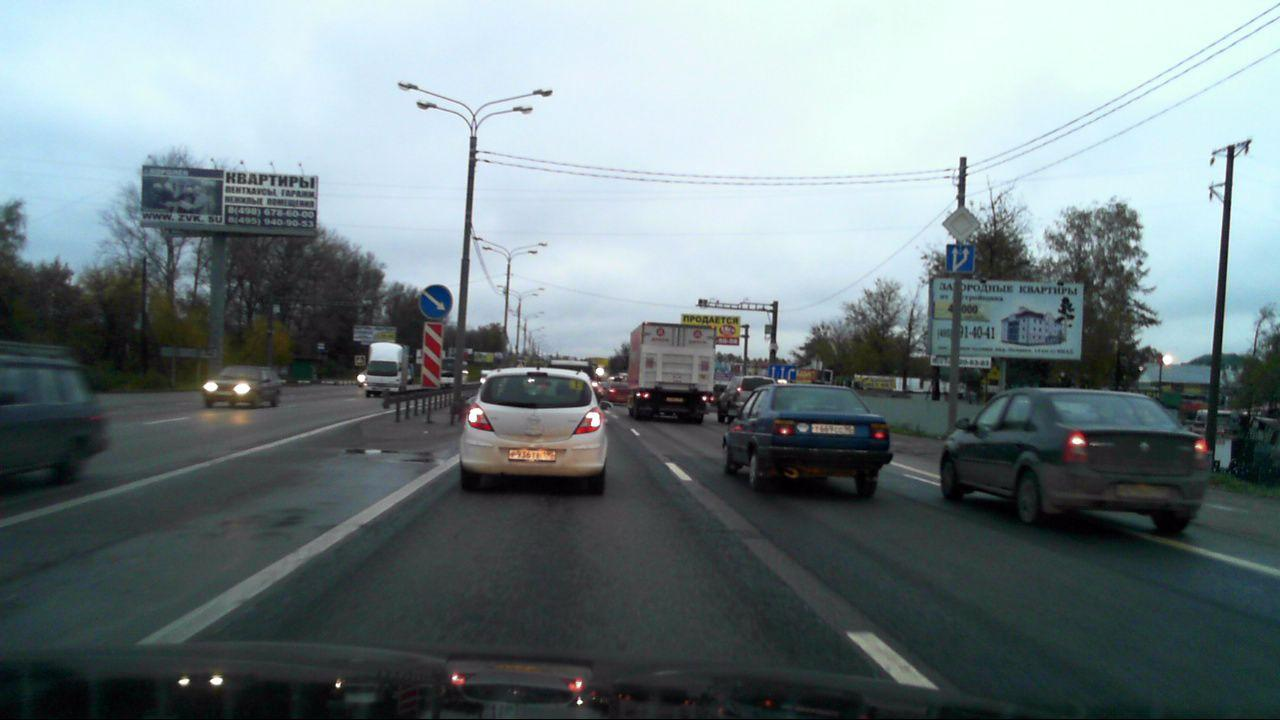2_1: (942, 207, 981, 241)
4_2_1: (420, 286, 452, 318)
5_15_1: (766, 362, 799, 381)
5_15_3: (946, 244, 975, 275)
8_22_1: (423, 322, 443, 388)
